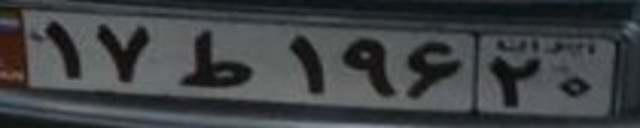0: (557, 76, 595, 98)
1: (40, 21, 85, 79), (287, 34, 325, 93)
2: (489, 55, 541, 108)
6: (403, 40, 461, 98)
7: (93, 23, 157, 83)
9: (340, 36, 397, 95)
taa: (175, 26, 255, 87)
